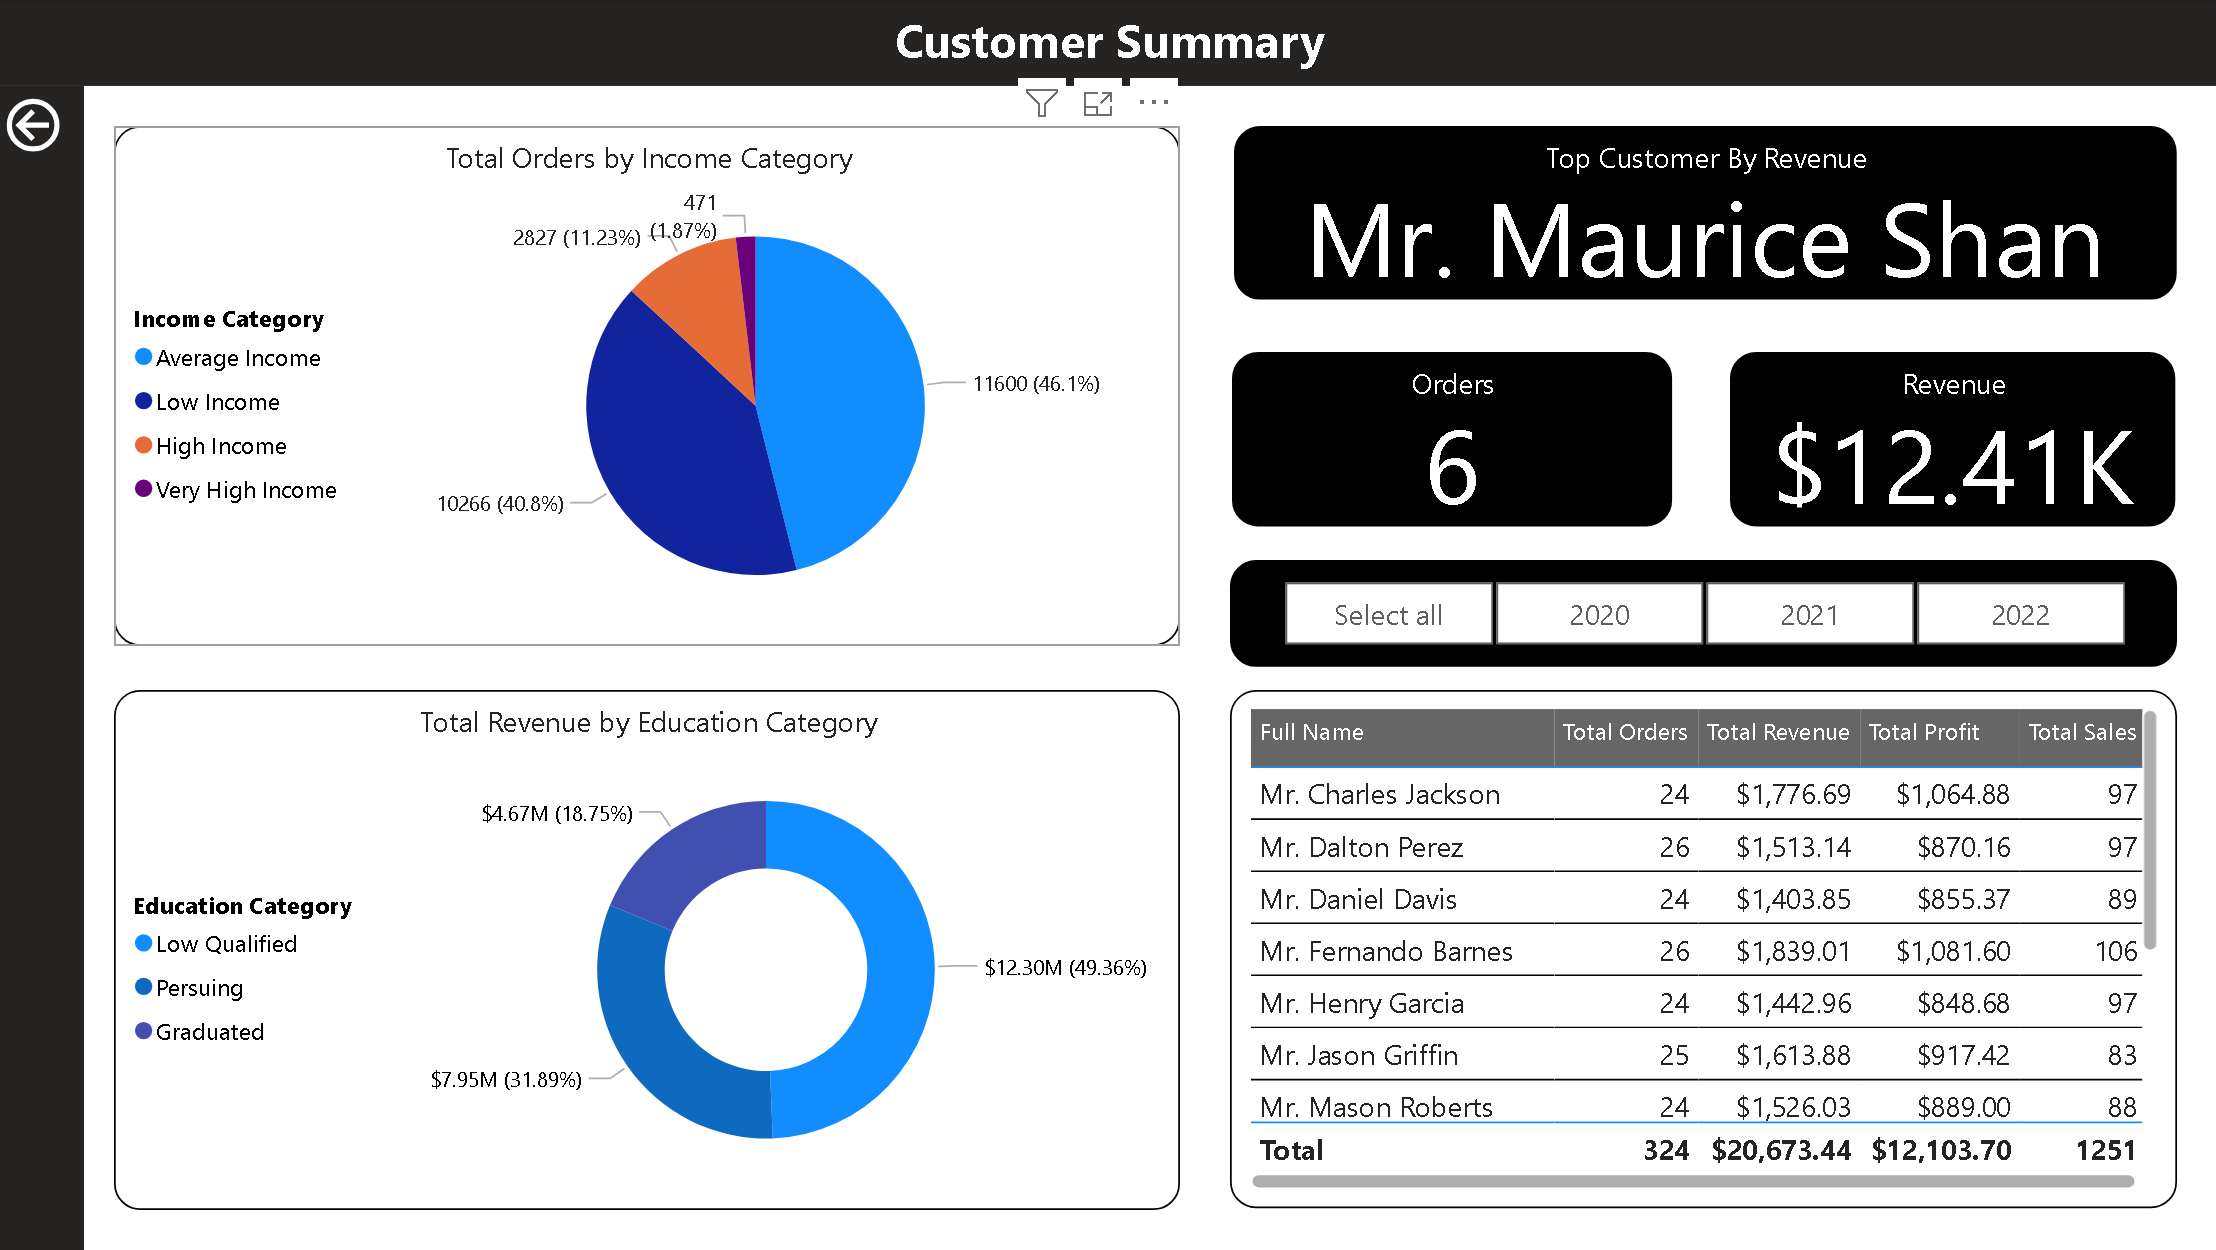

Layout of this report page (visuals, bound fields, positions):
{"tool":"powerbi","page":{"name":"Customer Summary","canvas":[1280,720],"ordinal":2},"visuals":[{"type":"textbox","box":[0,0,1281,49.5],"z":0},{"type":"shape","box":[0,49.5,49.5,670.5],"z":1000},{"type":"pieChart","fields":{"Category":["Customer Lookup.Income Category"],"Y":["measure table.Total Orders"]},"box":[66.4,72.9,614.1,299.7],"z":2000},{"type":"donutChart","fields":{"Category":["Customer Lookup.Education Category"],"Y":["measure table.Total Revenue"]},"box":[66.4,397,614.1,299.7],"z":3000},{"type":"card","title":"Top Customer By Revenue","fields":{"Values":["Min(Customer Lookup.Full Name)"]},"box":[711.4,72.9,542.9,100],"z":4001},{"type":"card","title":"Revenue","fields":{"Values":["measure table.Total Revenue"]},"box":[997.9,202.4,256.6,100.4],"z":4002},{"type":"card","title":"Orders","fields":{"Values":["measure table.Total Orders"]},"box":[710.9,202.4,253.4,100.4],"z":4003},{"type":"tableEx","fields":{"Values":["Customer Lookup.Full Name","measure table.Total Orders","measure table.Total Revenue","measure table.Total Profit","measure table.Total Sales"]},"box":[710,397.2,545.3,298.4],"z":4004},{"type":"slicer","fields":{"Values":["Calendar Lookup.Year"]},"box":[710,323.1,545.3,61.7],"z":4005},{"type":"actionButton","box":[0,51.8,50.2,40.5],"z":4006}]}

Visuals, with their boxes on the page's 1280x720 design canvas (x1, y1, x2, y2). These are canvas units, not pixel positions in the 2216x1250 screenshot, which may show the page scaled, cropped or inside an application window:
textbox: bbox(0, 0, 1281, 50)
shape: bbox(0, 50, 50, 720)
pieChart - Customer Lookup.Income Category x measure table.Total Orders: bbox(66, 73, 680, 373)
donutChart - Customer Lookup.Education Category x measure table.Total Revenue: bbox(66, 397, 680, 697)
"Top Customer By Revenue" card: bbox(711, 73, 1254, 173)
"Revenue" card: bbox(998, 202, 1254, 303)
"Orders" card: bbox(711, 202, 964, 303)
tableEx - Customer Lookup.Full Name x measure table.Total Orders: bbox(710, 397, 1255, 696)
slicer - Calendar Lookup.Year: bbox(710, 323, 1255, 385)
actionButton: bbox(0, 52, 50, 92)
